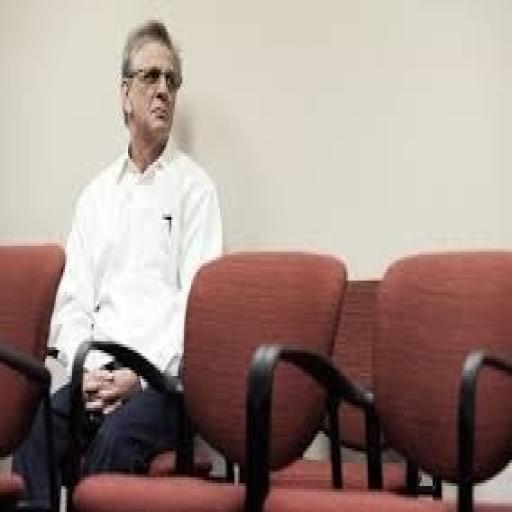sitting: (6, 18, 224, 506)
